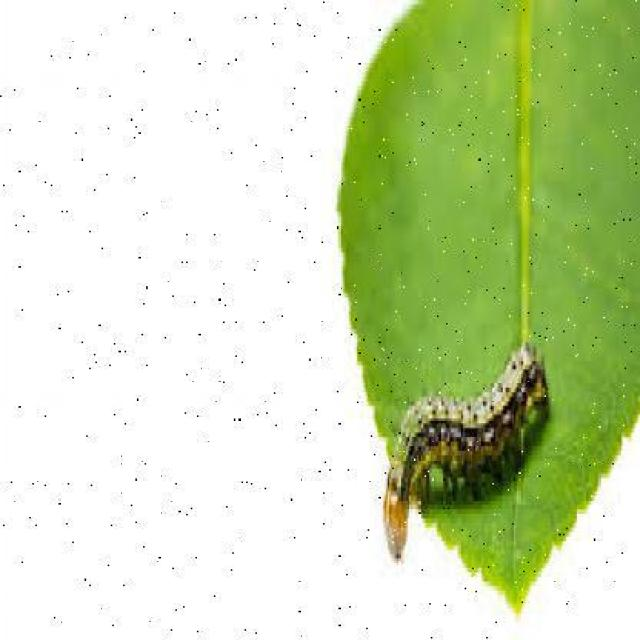Plaga: (383, 338, 561, 578)
